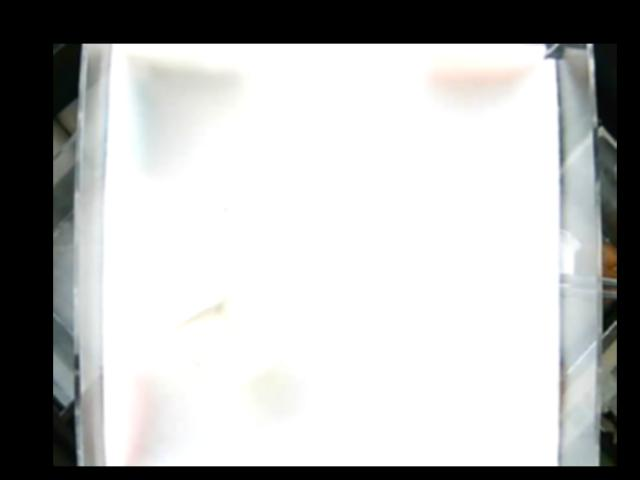Cup: (164, 270, 283, 390)
